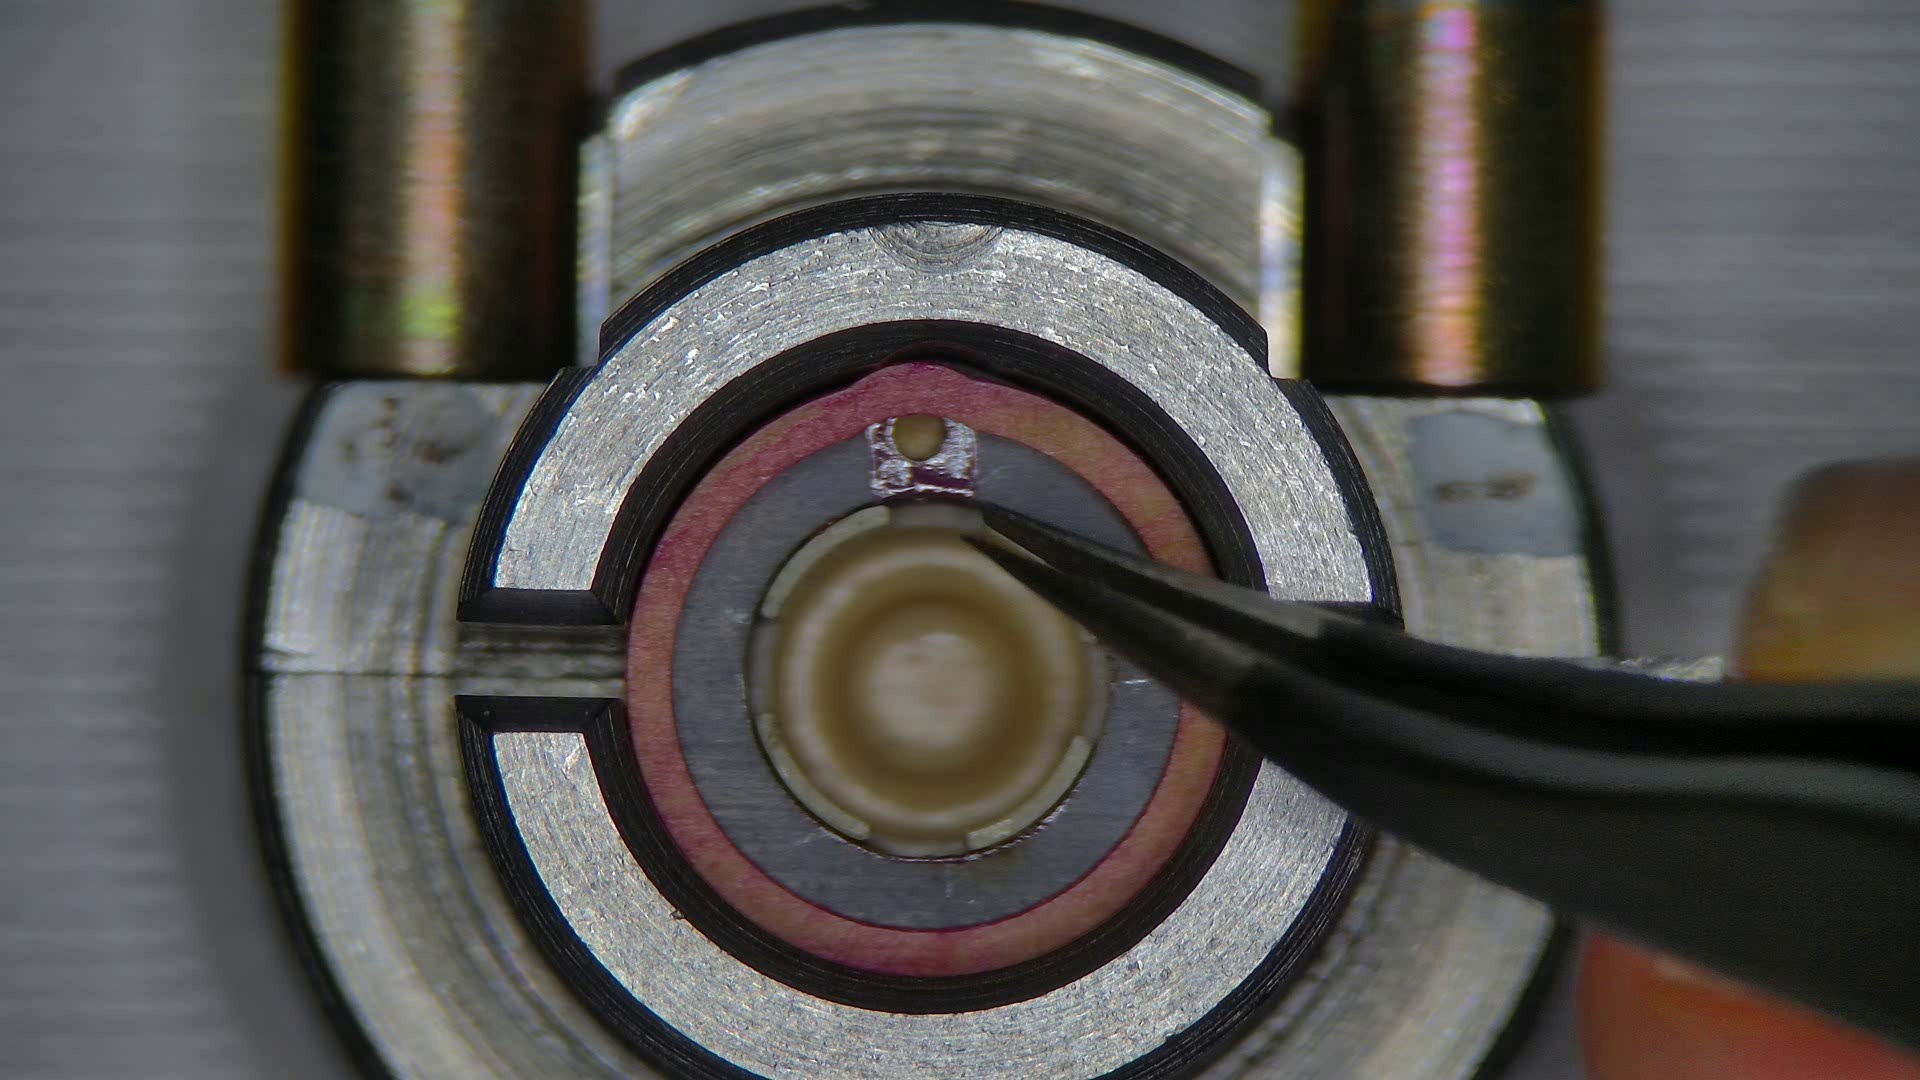GreyOring: (626, 361, 1221, 977)
YellowOring: (675, 419, 1172, 928)
